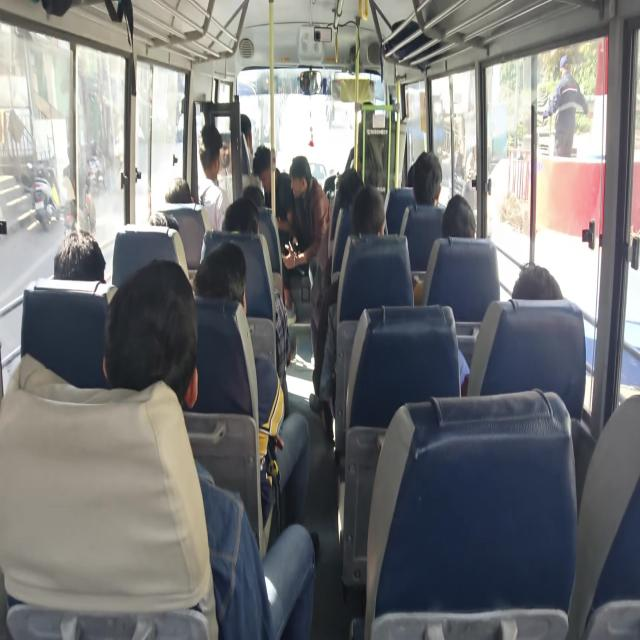person: (102, 257, 316, 638), (193, 240, 310, 529), (310, 185, 387, 441), (458, 261, 563, 395), (412, 193, 476, 304), (281, 155, 330, 277), (542, 54, 590, 157), (252, 144, 294, 234), (198, 123, 226, 231), (53, 229, 106, 282), (511, 262, 563, 300), (409, 150, 442, 206), (441, 194, 476, 238), (240, 114, 254, 174), (165, 177, 193, 204)
